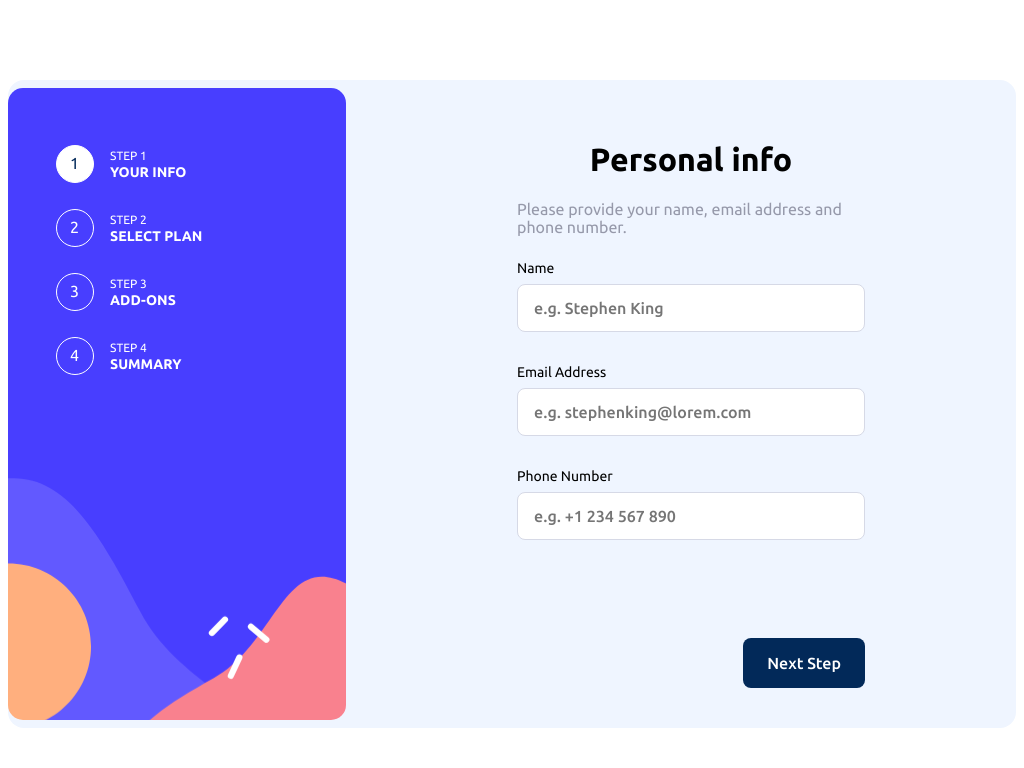
Scenario: Error messages are shown on invalid emailinput
In the field labelled "Email Address": (691,412) [517, 388, 865, 436], type "invalid-email"
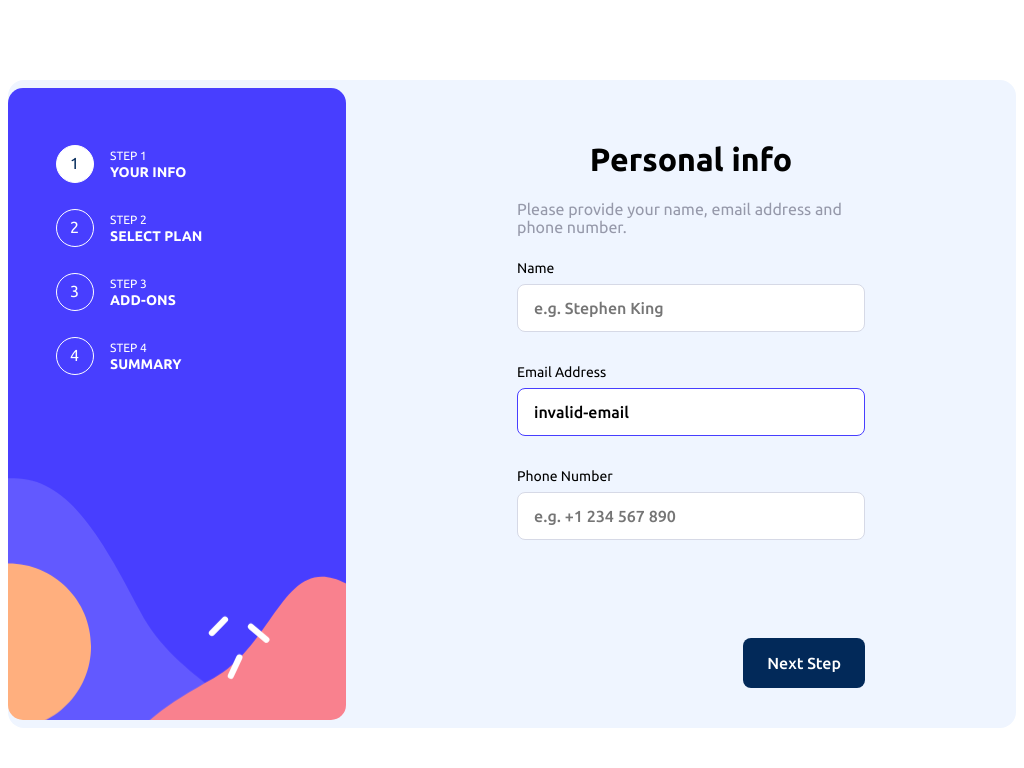
Press Tab
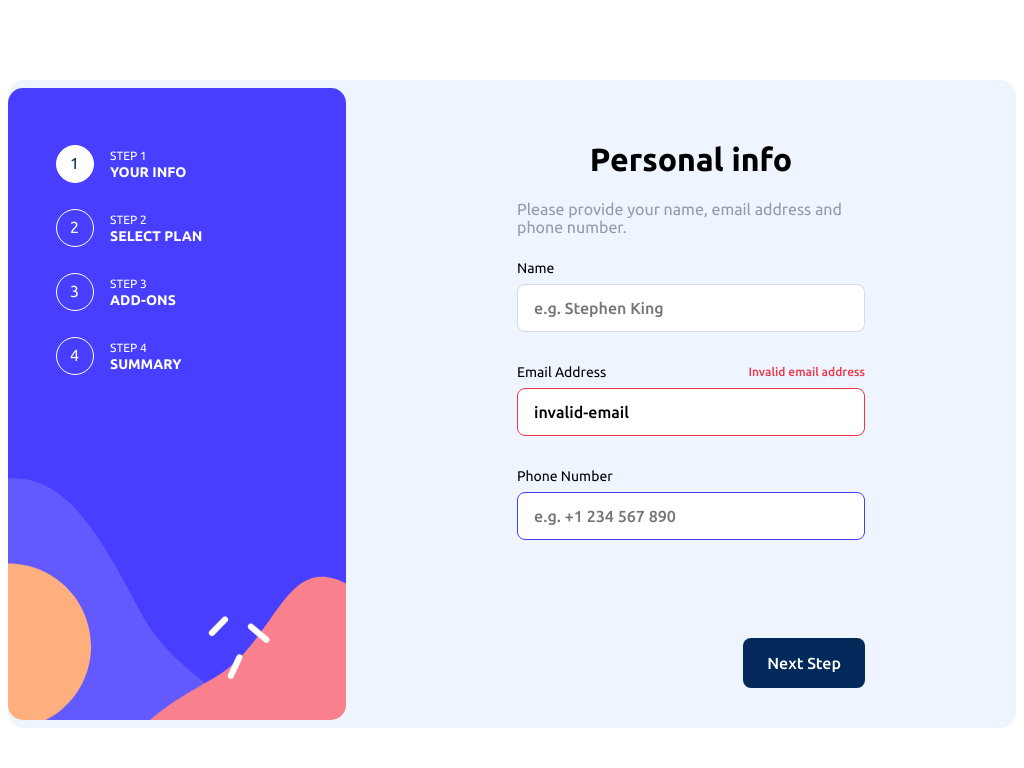
Now the text "Invalid email address" is shown, box [748, 365, 865, 378]
